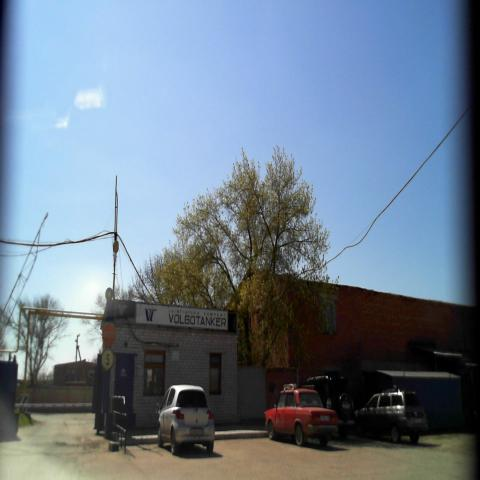2_5: (102, 318, 116, 346)
3_24: (102, 347, 114, 370)
